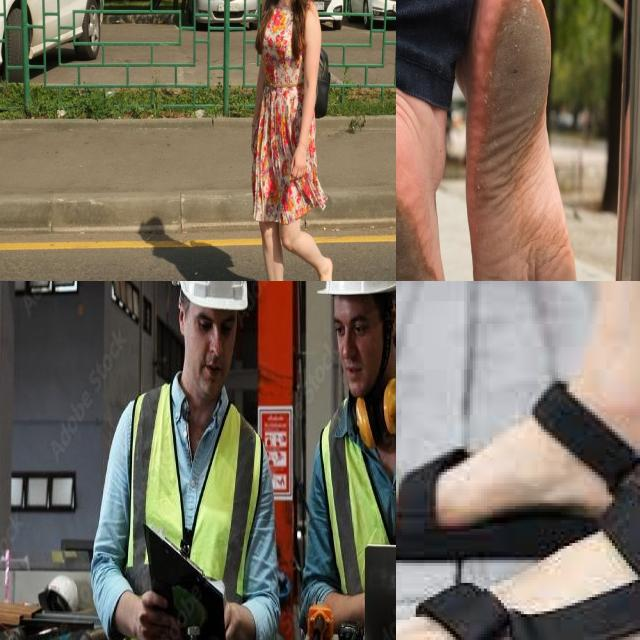Barefoots: (465, 0, 583, 281), (396, 122, 474, 281), (318, 257, 333, 281)
Ear-protection: (332, 372, 396, 429)
Sandals: (396, 473, 640, 640)
head_helmet: (171, 281, 250, 313)
person: (83, 281, 290, 640), (283, 281, 396, 640)
vest: (117, 375, 268, 640), (316, 383, 396, 640)
